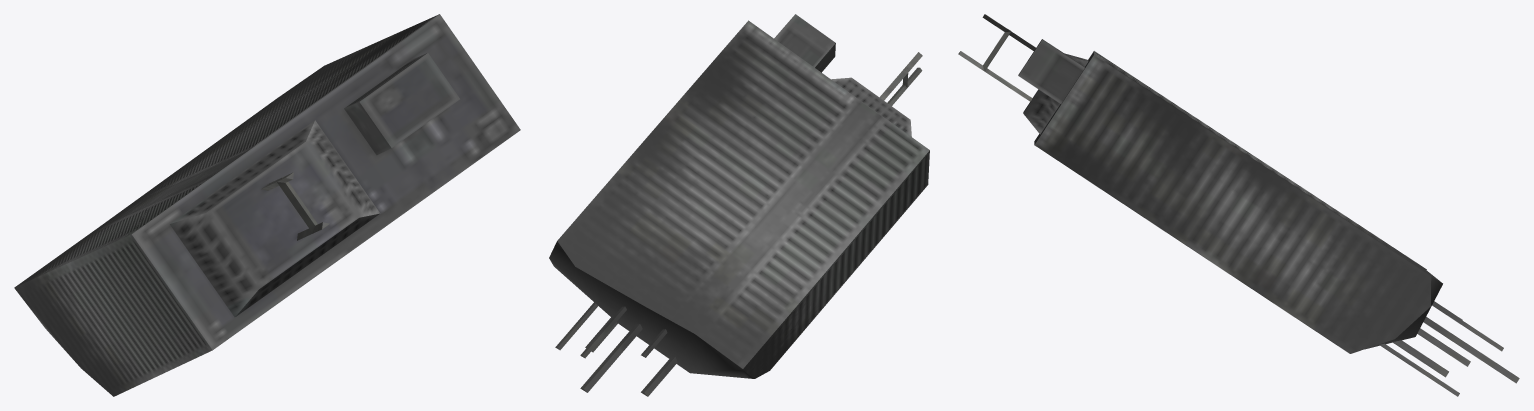
The model's file is skyBuildingAAC_pos_grp (13).fbx.
The picture shows the model from 3 angles, left to right: view 1: azimuth 30°, elevation 25°; view 2: azimuth 150°, elevation 25°; view 3: azimuth 270°, elevation 25°; orthographic projection. The views are drawn at different scales.
Parts seen in each view (by area): view 1: skyBuildingAAC_geo; view 2: skyBuildingAAC_geo; view 3: skyBuildingAAC_geo.
Part boxes in pixels (x1,y1,x2,y2): skyBuildingAAC_geo: (14,14,520,396); skyBuildingAAC_geo: (549,14,929,396); skyBuildingAAC_geo: (958,14,1519,396).
Bounding box in the file's own units: 6.71 × 6.35 × 9.5.
